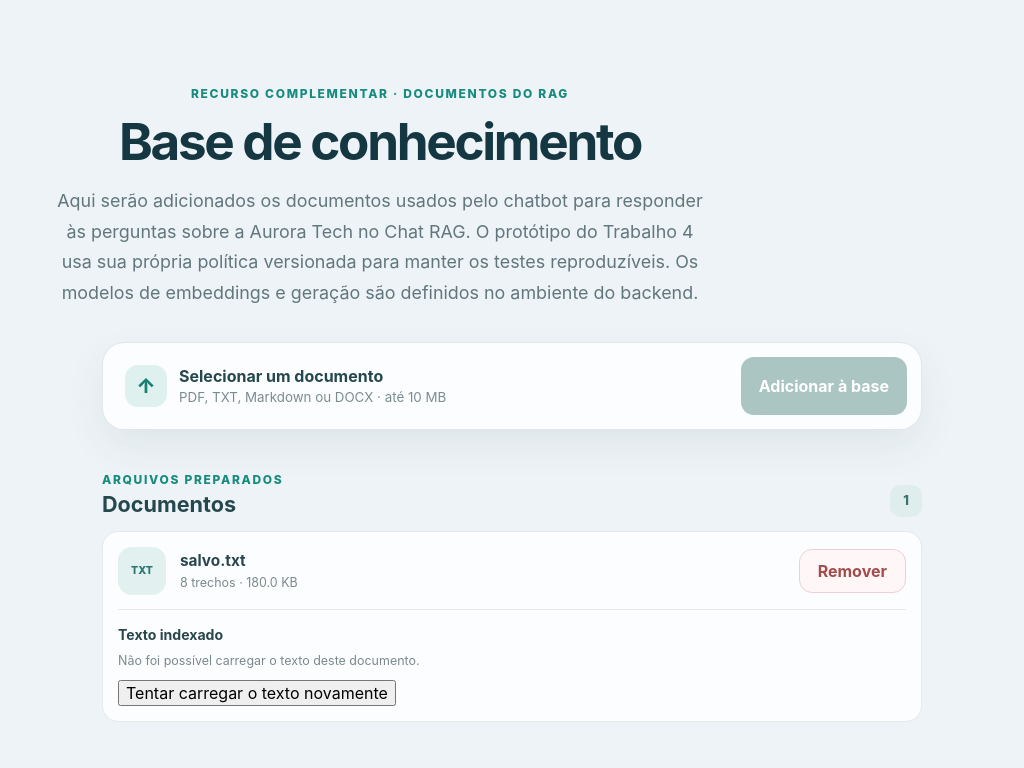
KnowledgeBasePage integrada › permite repetir a leitura do texto sem perder a lista
Expected: the text "Não foi possível carregar o texto deste documento." is shown, [118,653,420,668]
Expected: the heading "salvo.txt" is shown, [180,552,246,570]
Click the button "Tentar carregar o texto novamente".
click(257, 693)  # box [118,680,396,706]
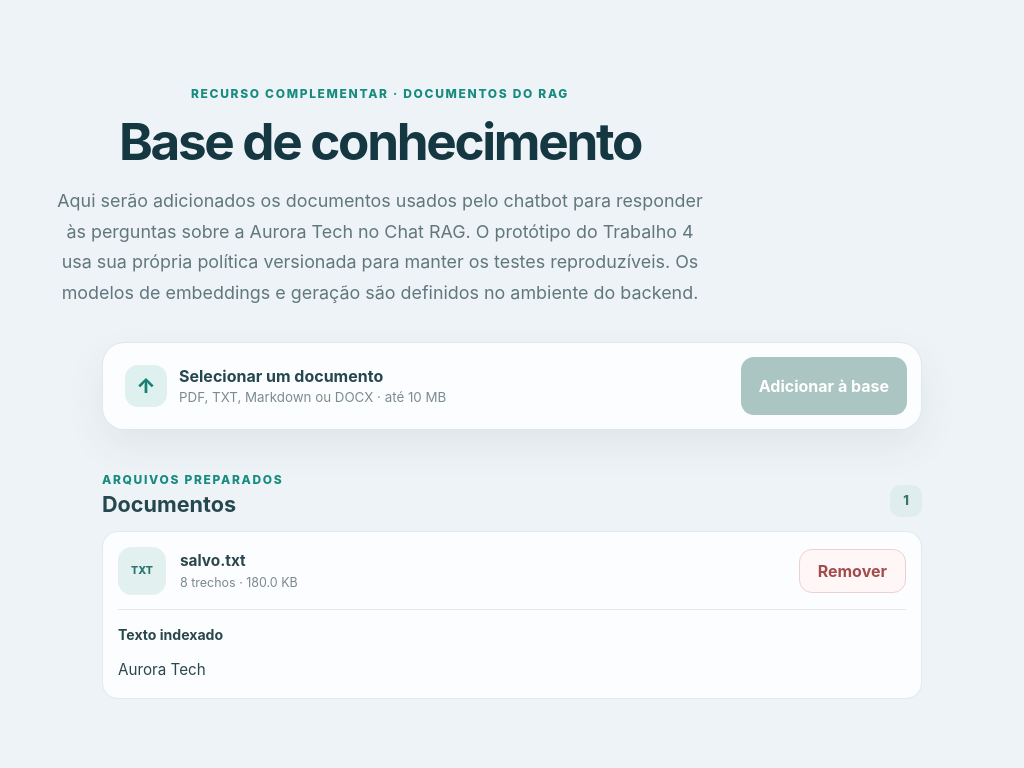
Expected: the text "Aurora Tech" is shown, [118,660,206,679]
